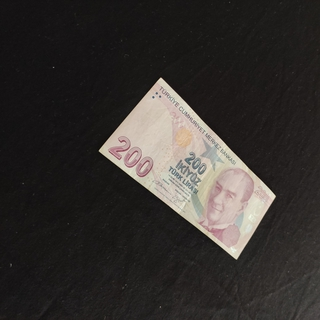200TLFront: (98, 77, 276, 260)
